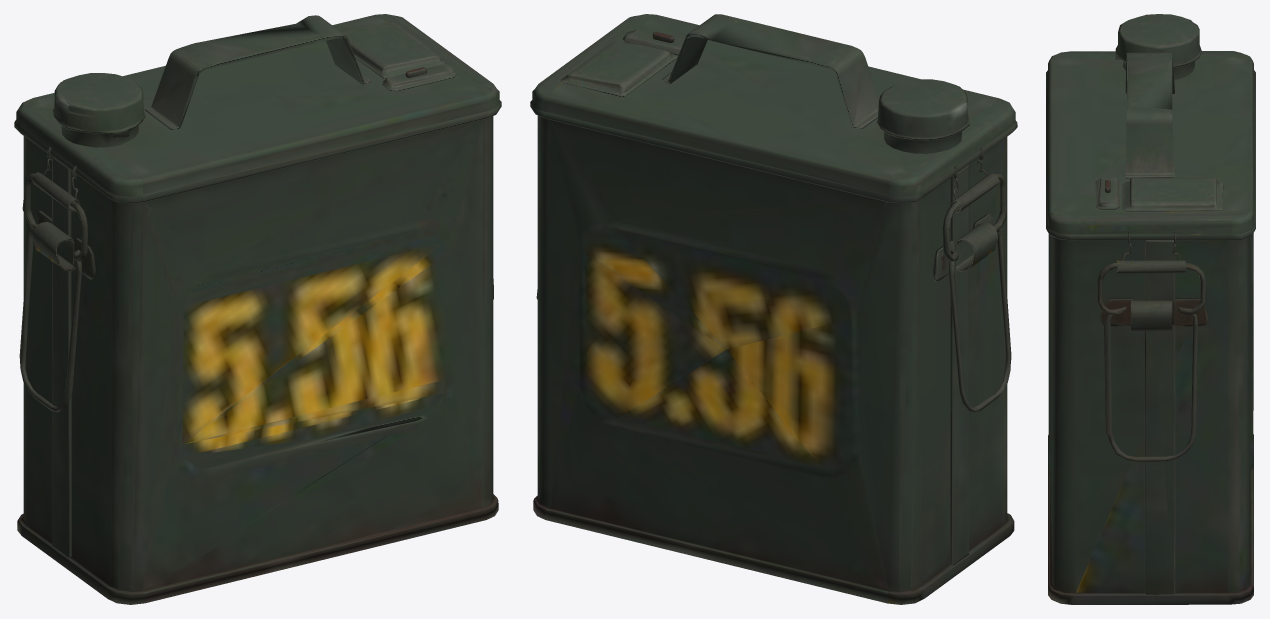
The model's file is ammo-556-t25.glb.
3 views of the same model, side by side, from view 1: azimuth 30°, elevation 25°; view 2: azimuth 150°, elevation 25°; view 3: azimuth 270°, elevation 25° (orthographic). The views are drawn at different scales.
Visible parts, largest first — view 1: ammo-556-t25; view 2: ammo-556-t25; view 3: ammo-556-t25.
Part boxes in pixels (bbox=[...]): ammo-556-t25: bbox=[14, 14, 501, 604]; ammo-556-t25: bbox=[530, 14, 1017, 604]; ammo-556-t25: bbox=[1046, 14, 1255, 604].
Size of the model in its own units: 0.1645 by 0.175 by 0.0762.
1 material, 1 textured.
